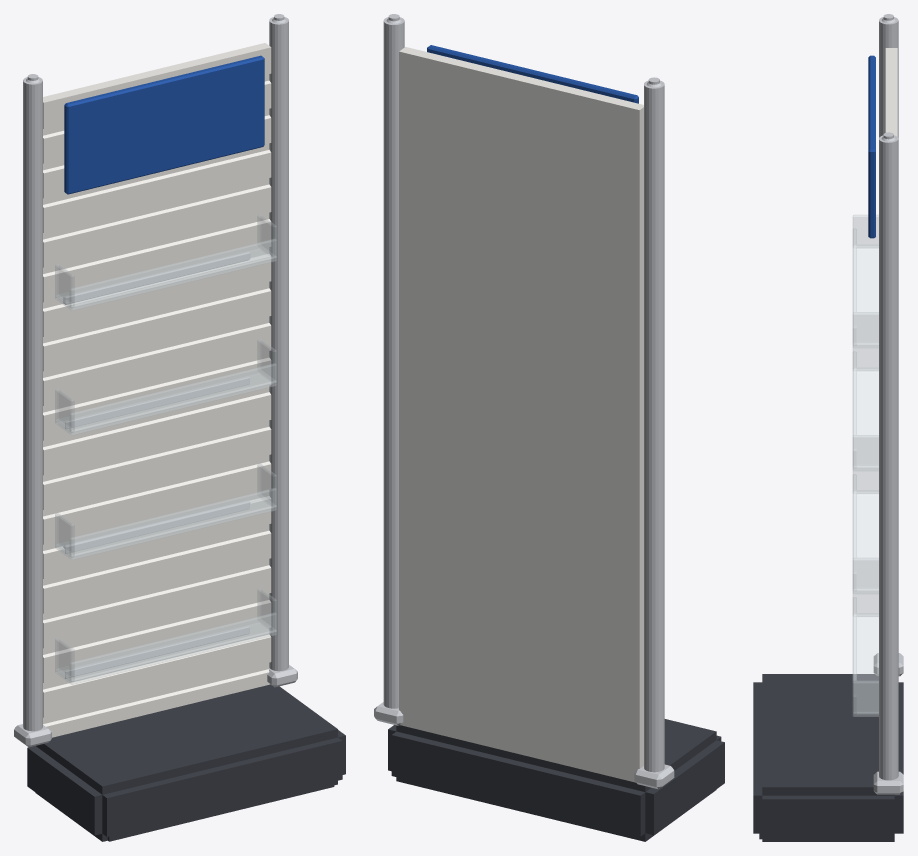
File: tape-cleaner-sidekick.glb
The picture shows the model from 3 angles, left to right: view 1: azimuth 30°, elevation 25°; view 2: azimuth 150°, elevation 25°; view 3: azimuth 270°, elevation 25°; orthographic projection. The views are drawn at different scales.
Parts seen in each view (by area): view 1: tape-cleaner-sidekick; view 2: tape-cleaner-sidekick; view 3: tape-cleaner-sidekick.
Boxes of the visible parts, x1=… form: tape-cleaner-sidekick: x1=14, y1=14, x2=345, y2=841; tape-cleaner-sidekick: x1=374, y1=14, x2=724, y2=841; tape-cleaner-sidekick: x1=753, y1=14, x2=903, y2=841.
Bounding box in the file's own units: 2.06 × 5.2 × 1.
